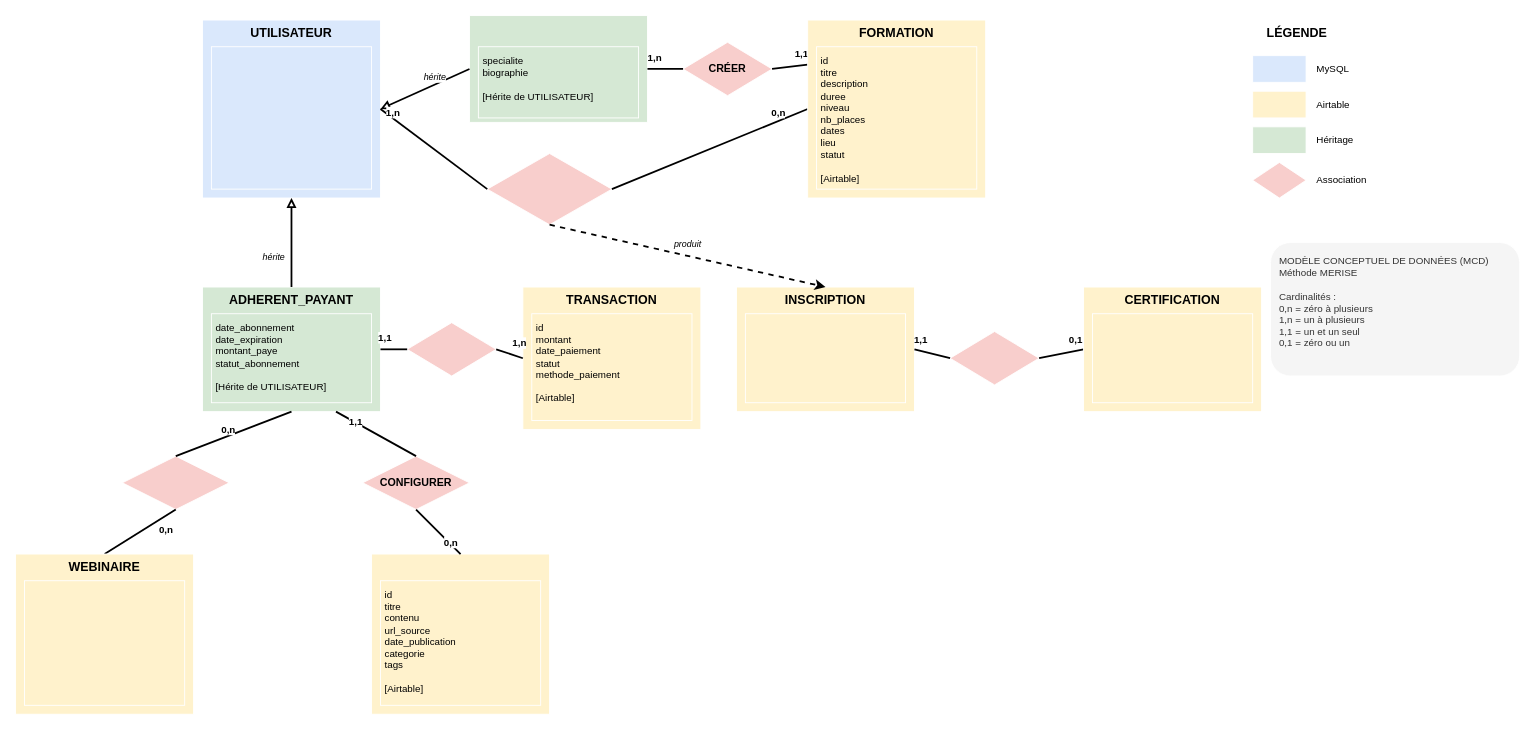
Image size: 1535x730. Some labels were removed from this diagram. The box of each missing label's shape, as (x1, y1, x2, y2) in pixels:
FORMATEUR: (469, 15, 647, 122)
GÉNÉRER: (949, 331, 1039, 385)
id date statut presence_confirmee [Airtable]: (744, 313, 906, 403)
id date_generation fichier_pdf numero [Airtable]: (1092, 313, 1253, 403)
id email nom prenom mot_de_passe role date_inscription statut [MySQL]: (210, 46, 372, 189)
id titre description url_video duree date_publication categorie [Airtable]: (24, 580, 185, 705)
PAYER: (406, 322, 496, 376)
S'INSCRIRE: (486, 153, 612, 225)
VEILLE: (371, 553, 550, 714)
VISIONNER: (121, 455, 229, 510)
